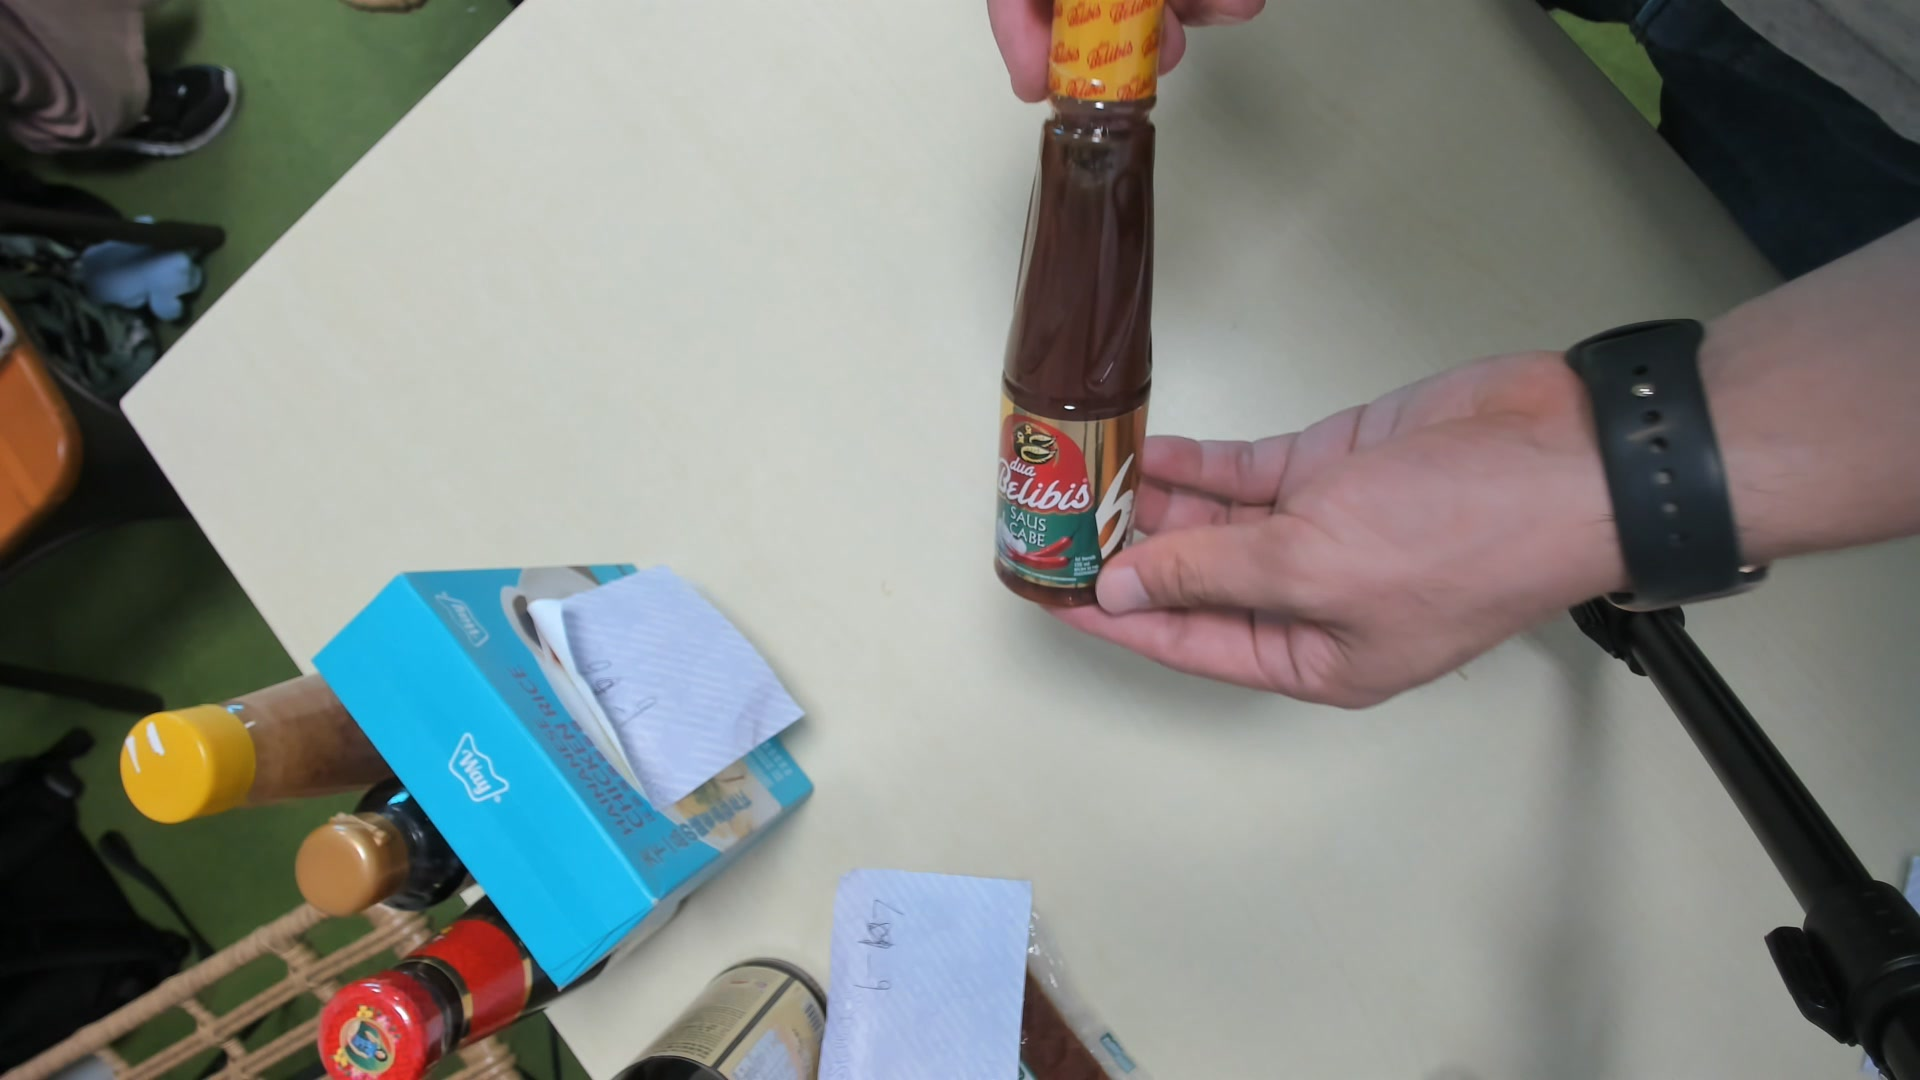KetchupChillSauce_100-199g_Halal_NonHealthy: (994, 9, 1160, 605)
